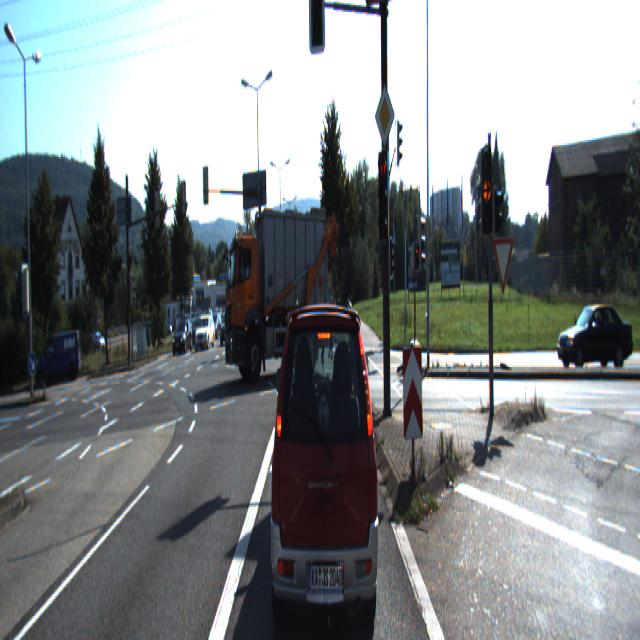Car: (267, 281, 382, 638), (556, 298, 634, 373), (172, 321, 193, 355), (195, 316, 215, 350), (219, 308, 239, 342)
DontCare: (85, 327, 107, 352)
Truck: (226, 210, 340, 388)
Van: (36, 330, 82, 392)
